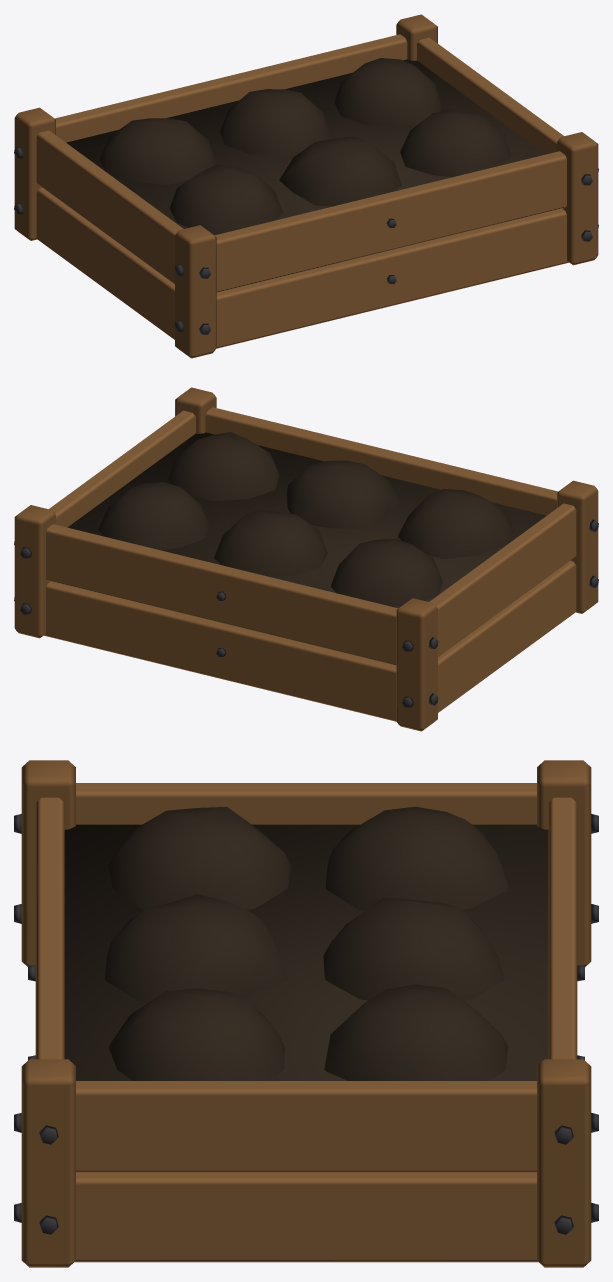
Rendered from bed.glb.
The picture shows the model from 3 angles, top to bottom: view 1: azimuth 30°, elevation 25°; view 2: azimuth 150°, elevation 25°; view 3: azimuth 270°, elevation 25°; orthographic projection. The views are drawn at different scales.
Parts seen in each view (by area): view 1: planks, soil, corner_posts, iron_bolts; view 2: planks, soil, corner_posts, iron_bolts; view 3: soil, planks, corner_posts, iron_bolts.
Boxes of the visible parts, x1,y1,x2,y2 form: planks: (36,34,568,348); soil: (66,58,545,235); corner_posts: (14,14,598,358); iron_bolts: (14,147,598,334); planks: (44,407,576,721); soil: (67,432,546,608); corner_posts: (14,387,598,731); iron_bolts: (14,519,598,707); soil: (64,806,548,1080); planks: (35,783,577,1262); corner_posts: (21,760,591,1267); iron_bolts: (14,814,598,1234).
Bounding box in the file's own units: 1.21 × 0.351 × 0.913.
